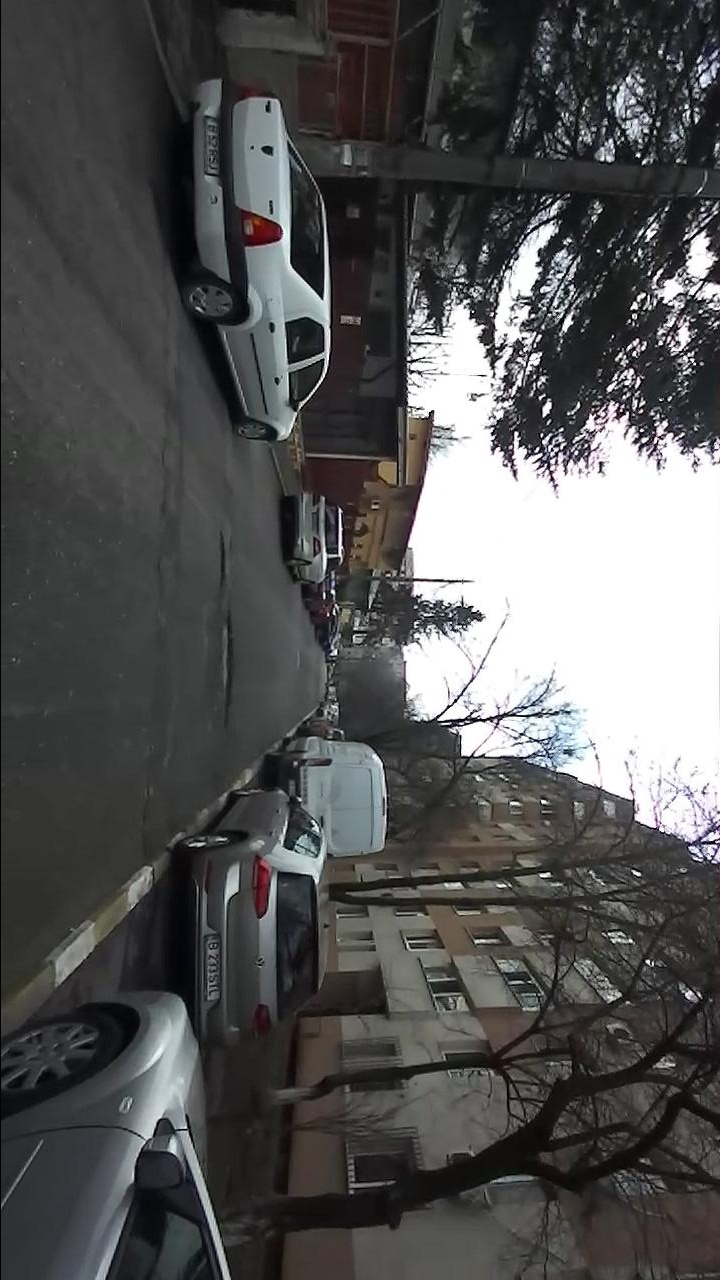pothole: (215, 605, 236, 730), (214, 528, 227, 591)
